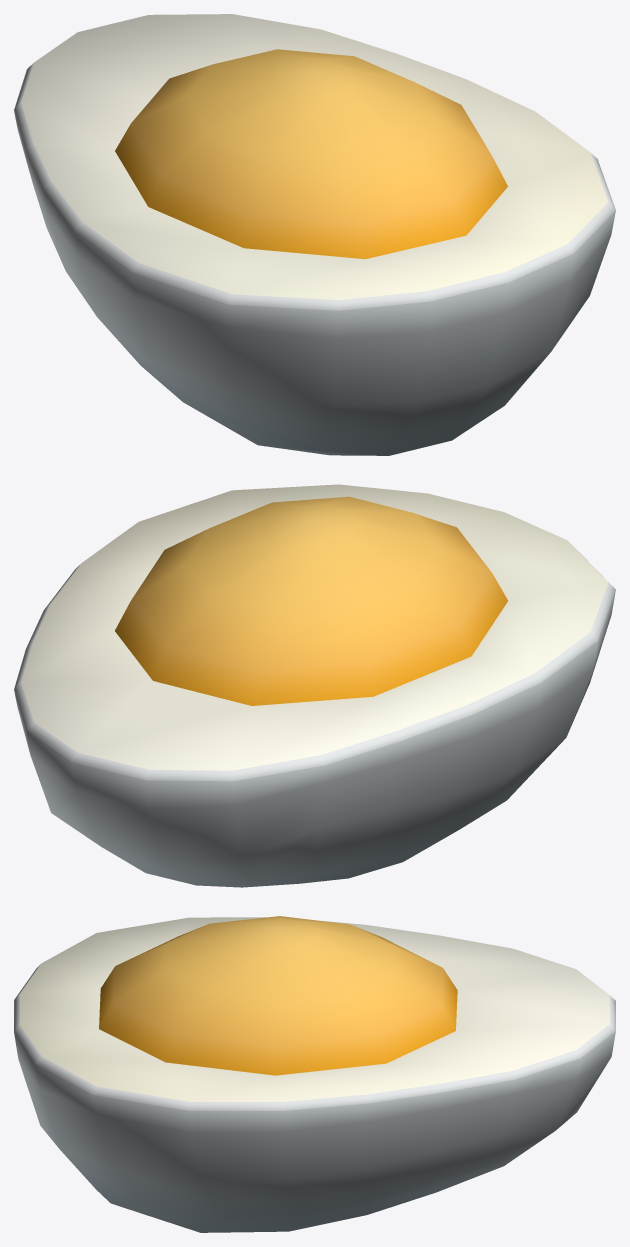
The model's file is egg_003.fbx.
The picture shows the model from 3 angles, top to bottom: view 1: azimuth 30°, elevation 25°; view 2: azimuth 150°, elevation 25°; view 3: azimuth 270°, elevation 25°; orthographic projection. The views are drawn at different scales.
Parts seen in each view (by area): view 1: egg_003; view 2: egg_003; view 3: egg_003.
Boxes of the visible parts, box(x1,y1,x2,y2) form: egg_003: box(14, 14, 615, 455); egg_003: box(14, 484, 615, 887); egg_003: box(14, 916, 615, 1232).
Size of the model in its own units: 6.34 by 8.49 by 4.38.
